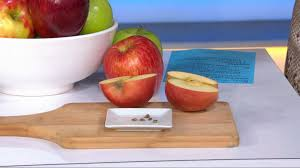apple: (111, 35, 160, 79), (29, 4, 85, 38), (115, 26, 170, 56), (1, 1, 31, 38), (81, 3, 115, 35)
damaged_apple: (164, 70, 222, 114), (99, 75, 161, 107)
